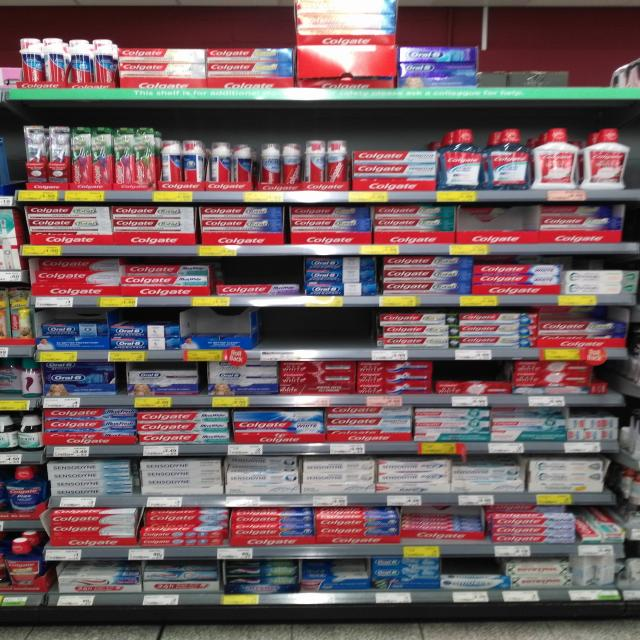void: (465, 204, 536, 254), (484, 34, 532, 99), (577, 31, 615, 100), (534, 32, 572, 100), (260, 310, 300, 361), (304, 310, 335, 358), (338, 309, 363, 359)
